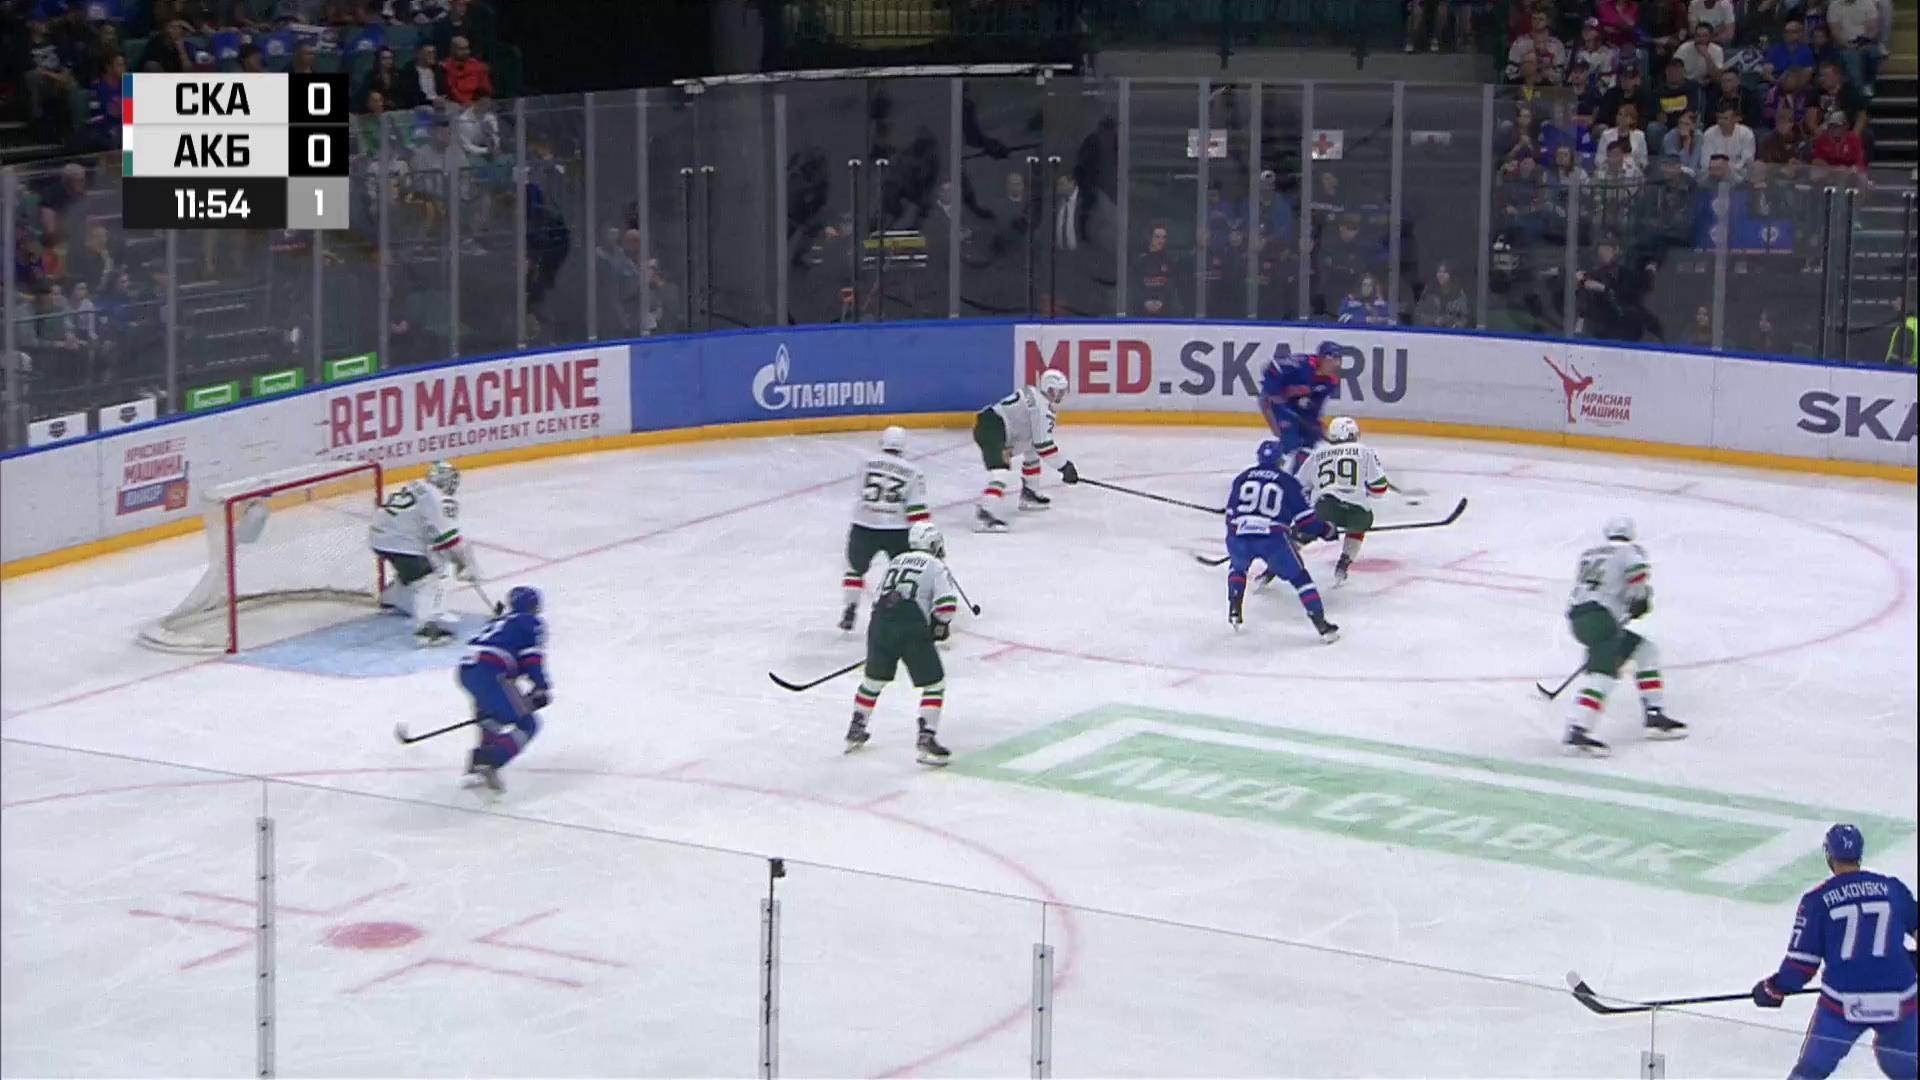ball: (1404, 500, 1422, 508)
